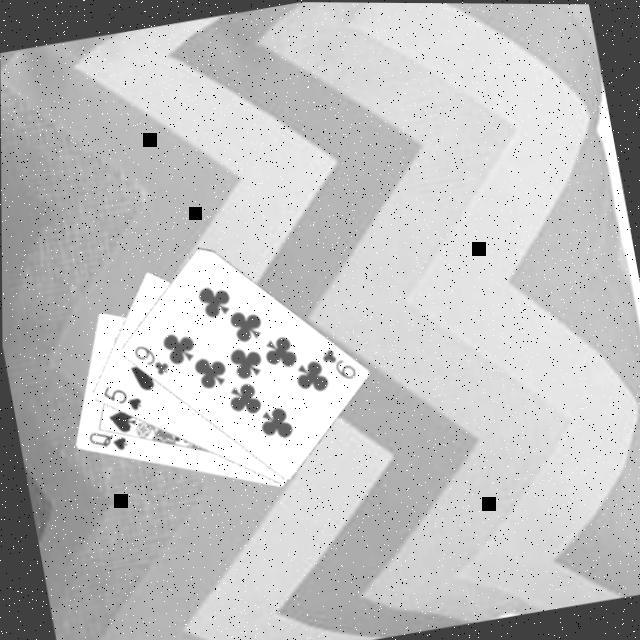5S: (98, 375, 146, 416)
9C: (316, 338, 360, 384), (129, 335, 173, 379)
QS: (84, 420, 131, 456)
